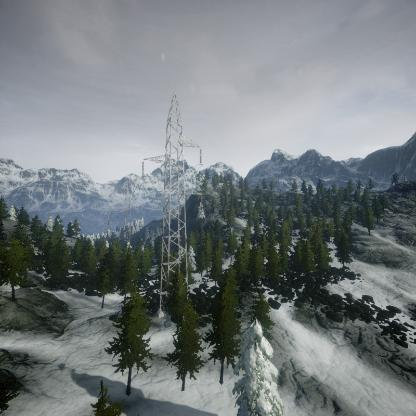tower: (139, 92, 205, 318)
